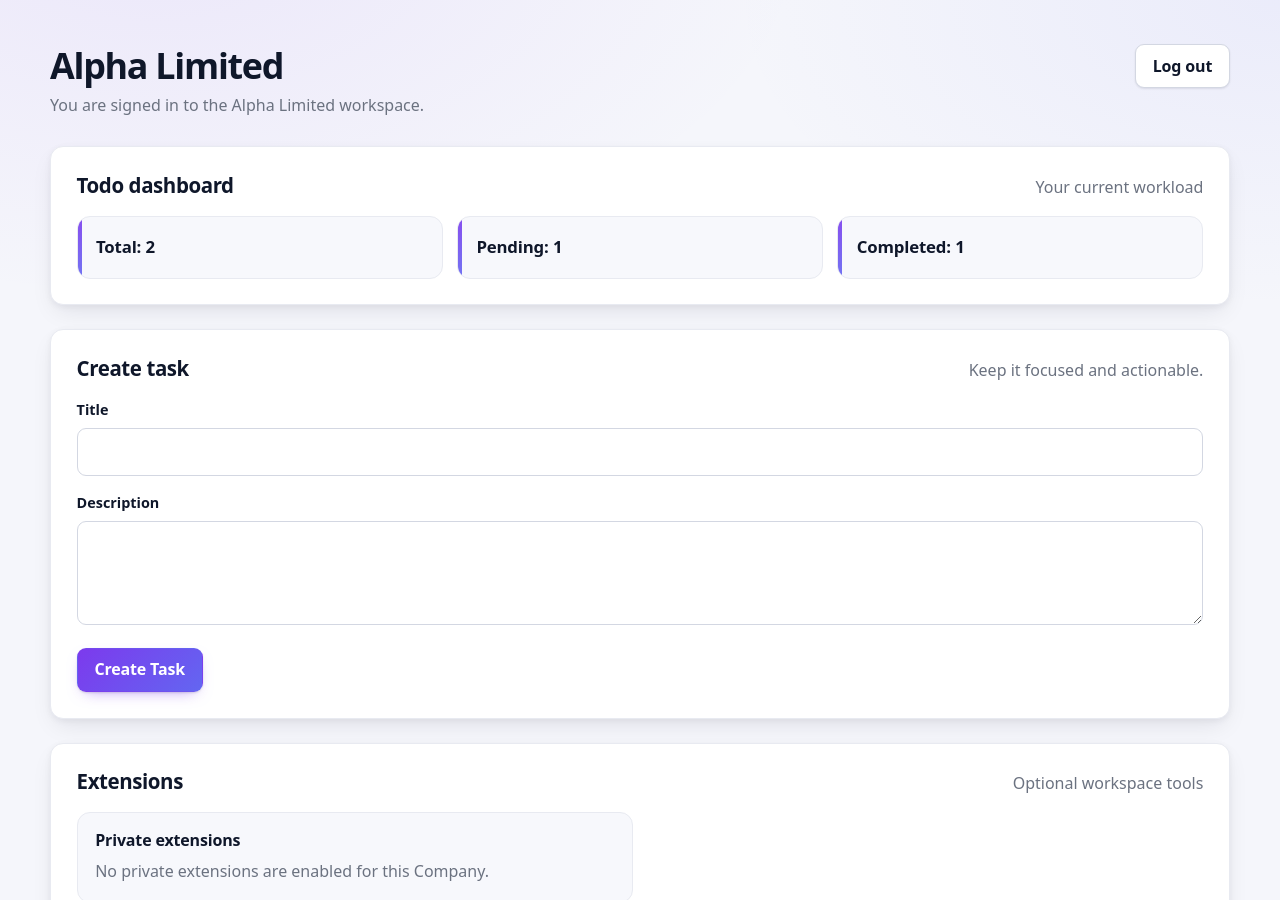
it: Workspace Todo dashboard › creates a trimmed task and refreshes the list
The image size is (1280, 900).
Type "  New task  " into the field labelled "Title". click: (640, 452)
box: [77, 428, 1203, 476]
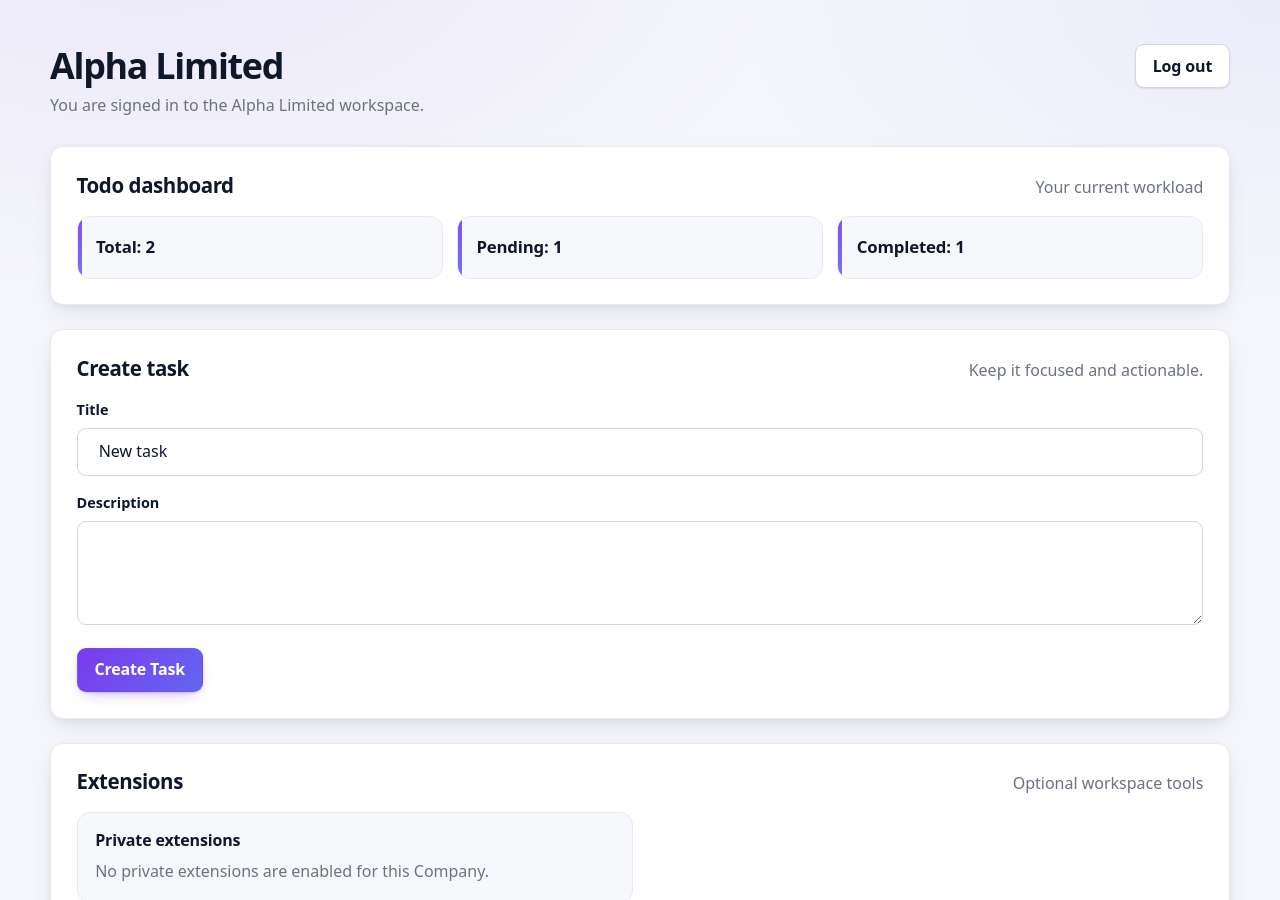
Type "  Description  " into the text box labelled "Description". click: (640, 573)
box: [77, 521, 1203, 625]
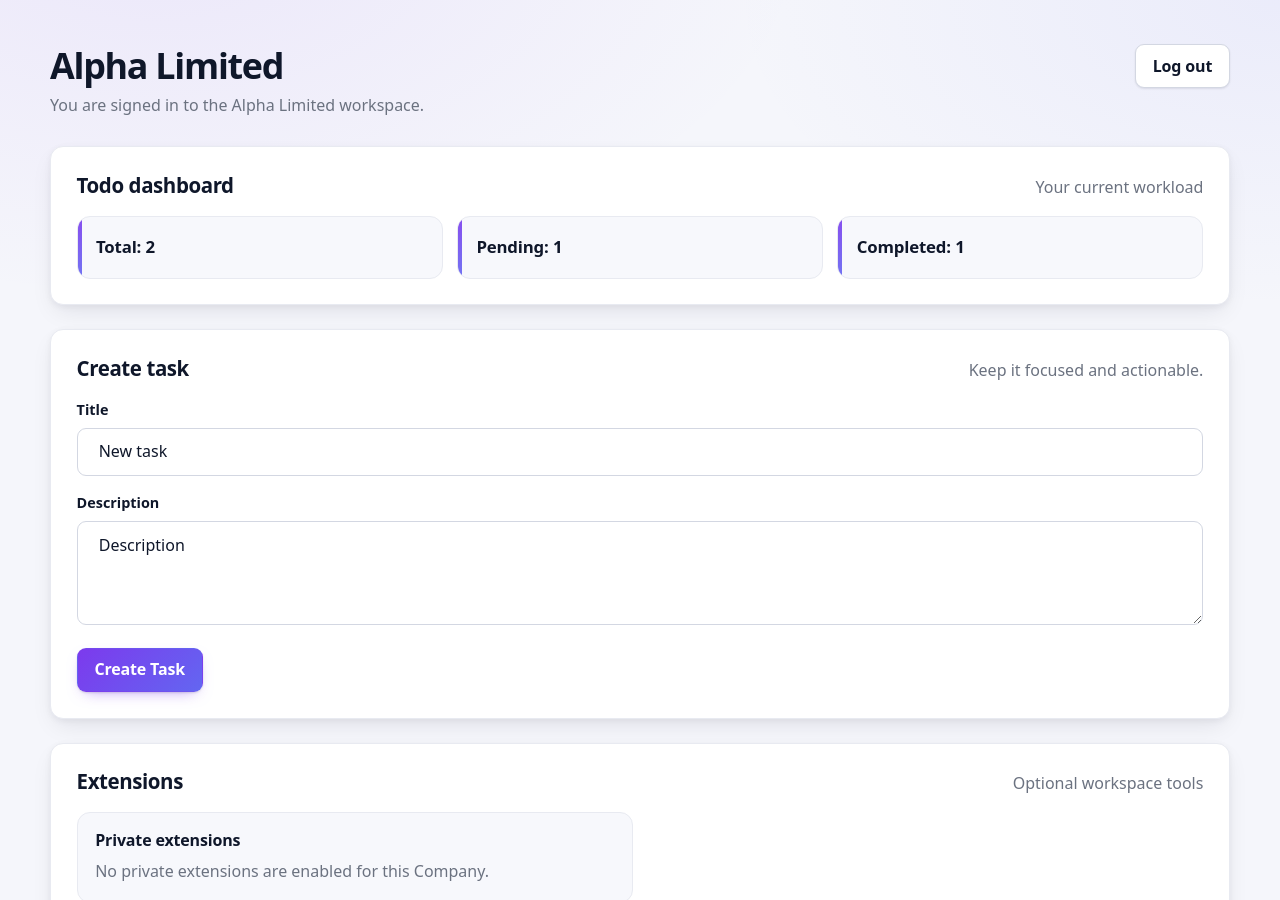
Click the button "Create Task". click: (140, 670)
box: [77, 648, 203, 692]
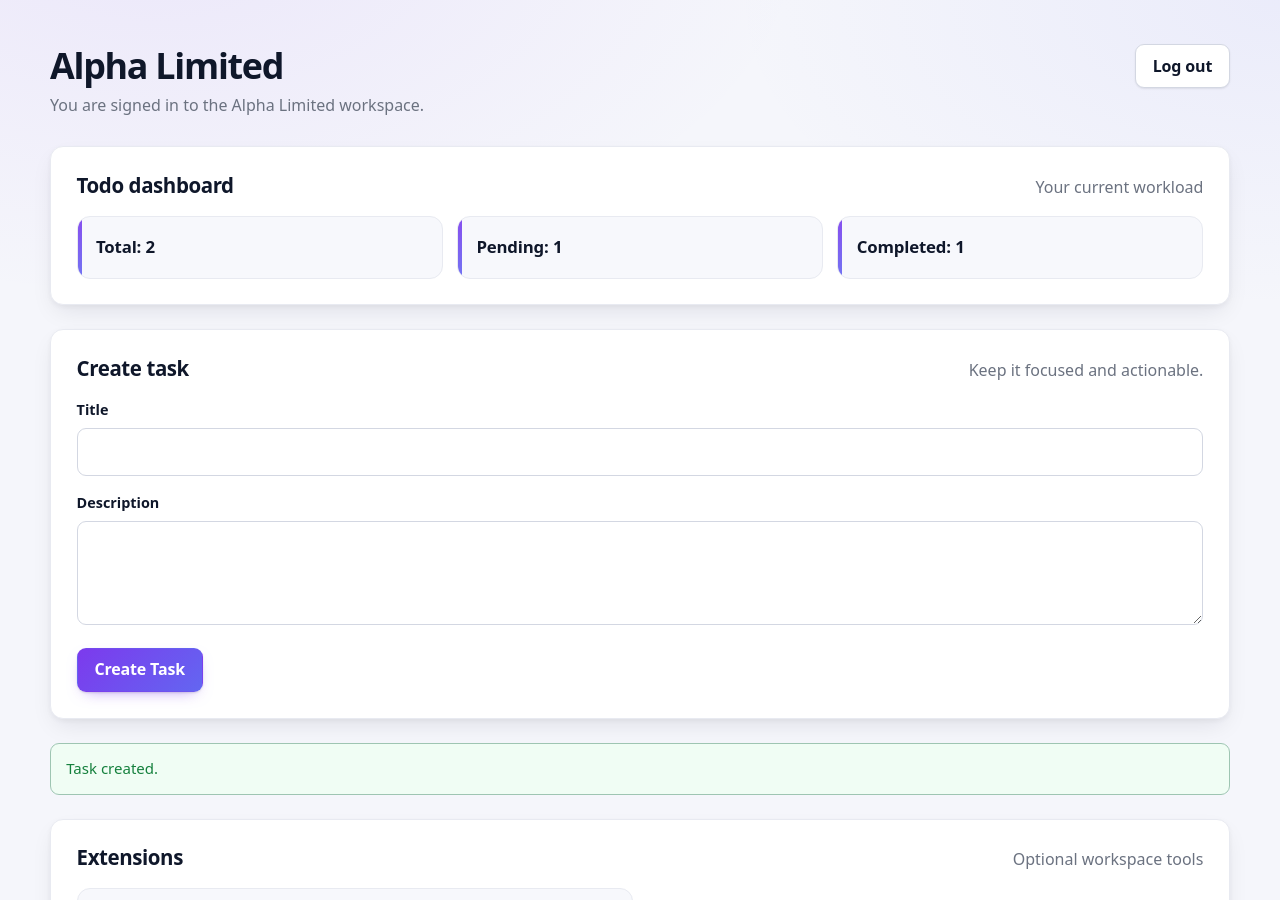
Result: the message reads "Task created." at [66, 758, 158, 778]
